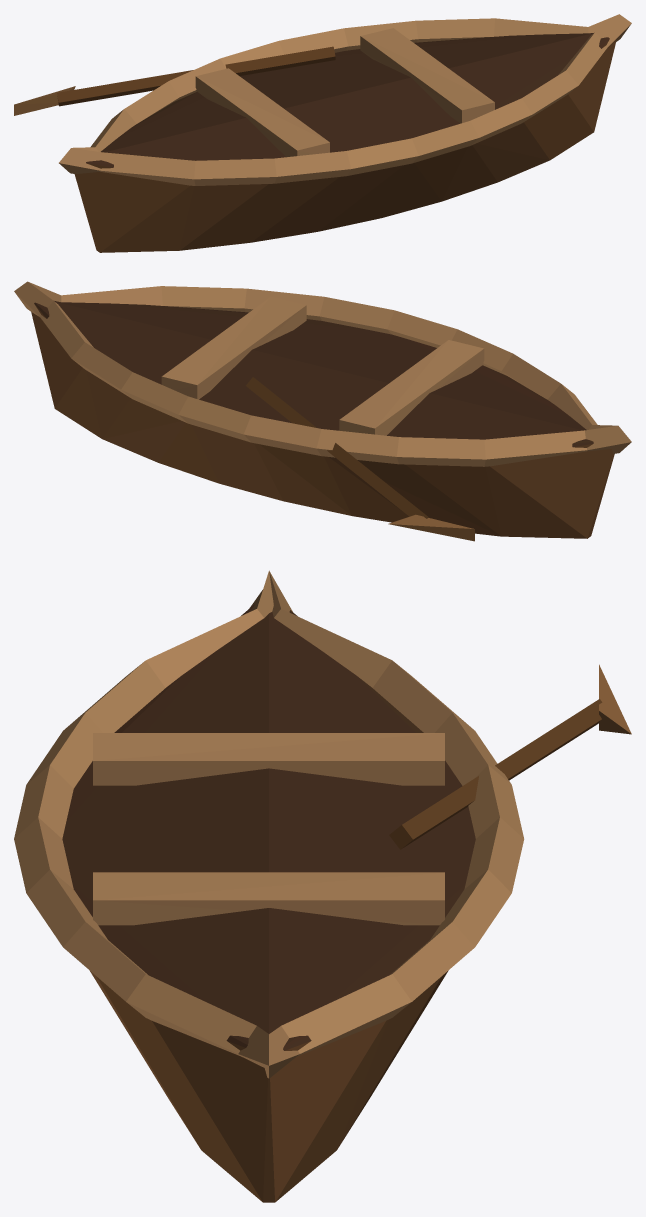
File: boat.glb
The picture shows the model from 3 angles, top to bottom: view 1: azimuth 30°, elevation 25°; view 2: azimuth 150°, elevation 25°; view 3: azimuth 270°, elevation 25°; orthographic projection. The views are drawn at different scales.
Parts seen in each view (by area): view 1: base; view 2: base; view 3: base.
Part boxes in pixels (bbox=[...]): base: bbox=[14, 14, 631, 252]; base: bbox=[14, 281, 631, 541]; base: bbox=[14, 570, 631, 1202].
Bounding box in the file's own units: 1.04 × 0.1919 × 0.562.
